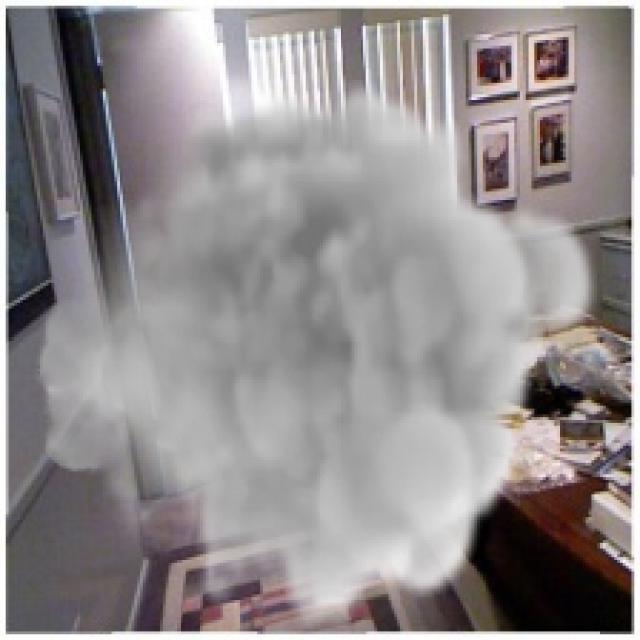Smoke: (34, 80, 603, 629)
